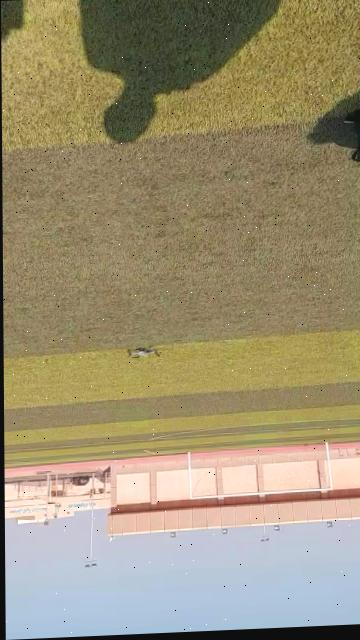drone: (123, 343, 165, 367)
